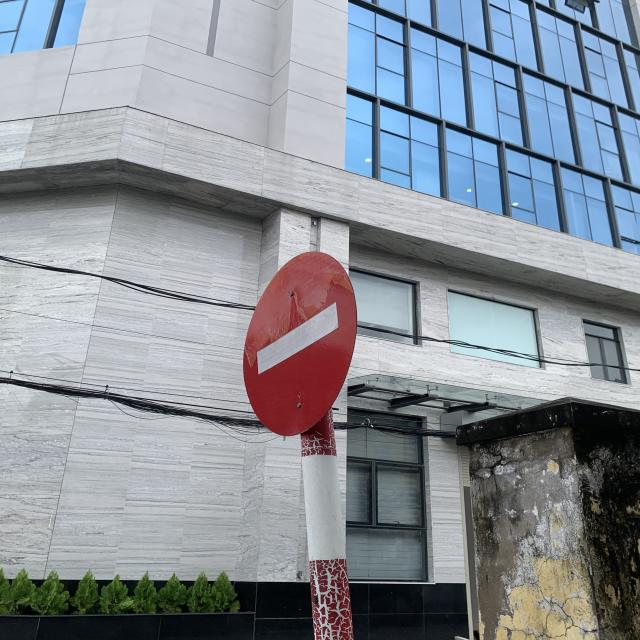Cam_Di_Nguoc_Chieu: (240, 250, 359, 438)
